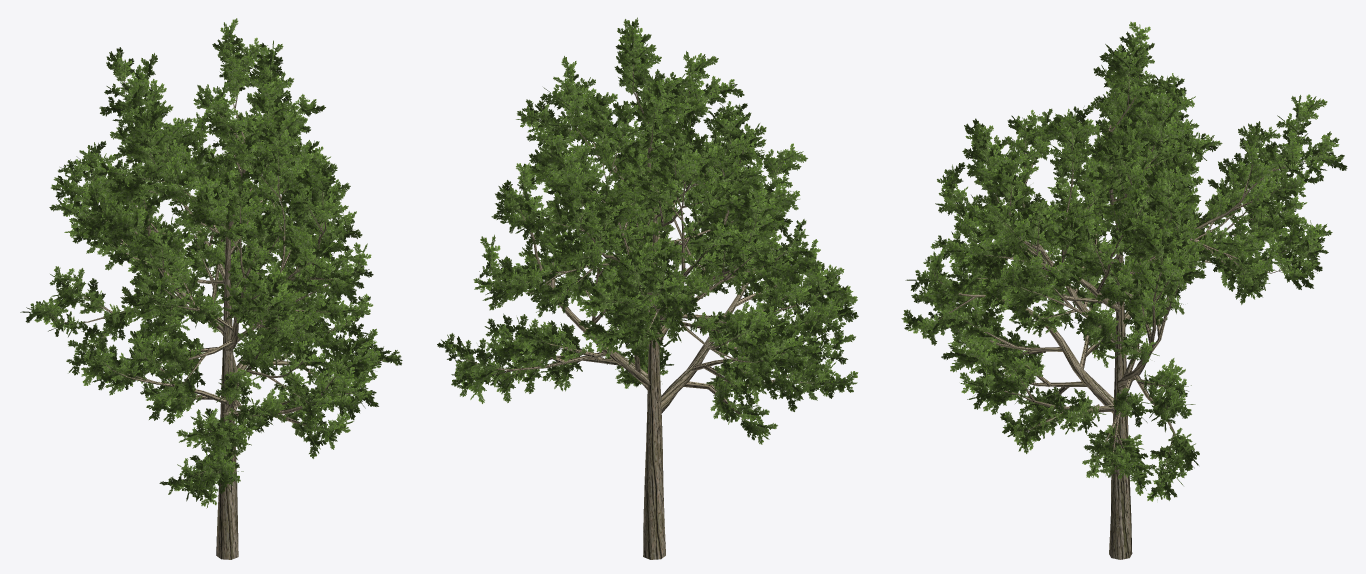
Rendered from oak_medium_03.glb.
The picture shows the model from 3 angles, left to right: view 1: azimuth 30°, elevation 25°; view 2: azimuth 150°, elevation 25°; view 3: azimuth 270°, elevation 25°; orthographic projection. The views are drawn at different scales.
Visible parts, largest first — view 1: Tree; view 2: Tree; view 3: Tree.
Boxes of the visible parts, x1,y1,x2,y2 form: Tree: (20,18,402,559); Tree: (437,17,858,559); Tree: (901,21,1347,559).
Bounding box in the file's own units: 51.04 × 70.39 × 53.97.
2 materials, 2 textured.
